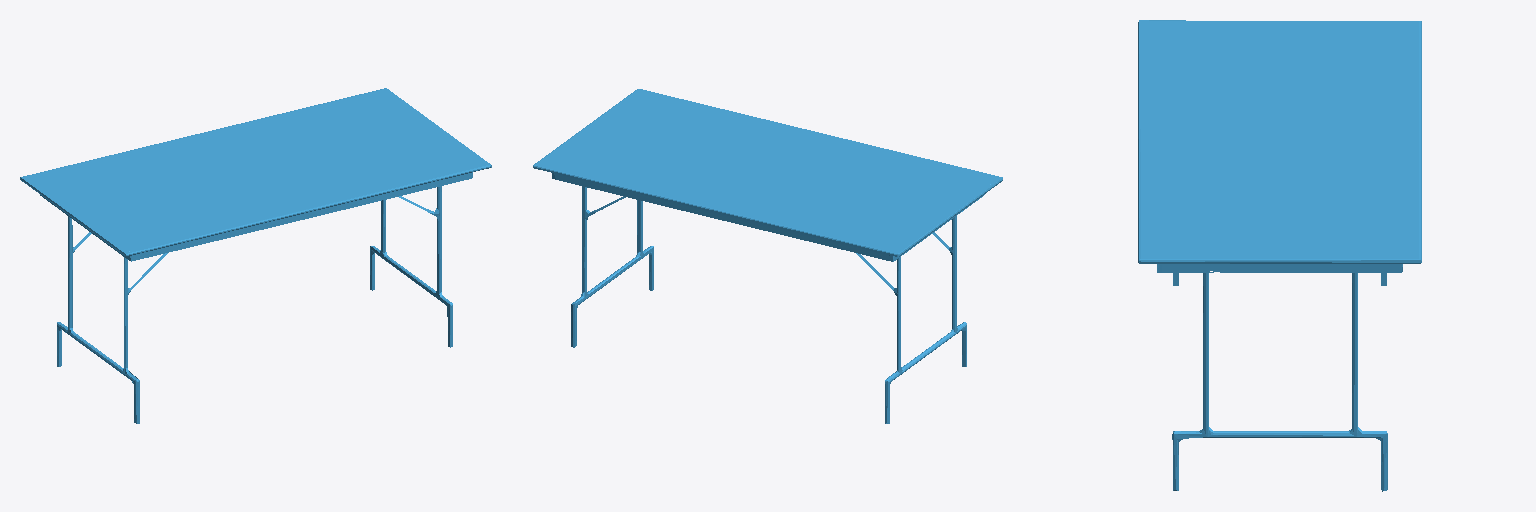
URDF robot description (table):
<?xml version="1.0"?>
<robot name="table">
    <link name="base_link"></link>

    <link name="table_link">
        <visual>
            <origin rpy="0 0 0" xyz="0 0 0" />
            <geometry>
                <mesh filename="./table.obj" scale="1 1 1" />
            </geometry>
        </visual>
        <collision>
            <origin rpy="0 0 0" xyz="0 0 0" />
            <geometry>
                <mesh filename="./table.obj" scale="1 1 1" />
            </geometry>
            <!-- <sdf resolution="1024"/> -->
        </collision>
        <inertial>
            <mass value="1.0" />
            <inertia ixx="0.4" ixy="0.0" ixz="0.0" iyy="0.4" iyz="0.0" izz="0.4" />
        </inertial>
    </link>

    <joint name="table_base" type="fixed">
        <origin rpy="0 0 0" xyz="0 0 0"/>
        <parent link="base_link"/>
        <child link="table_link"/>
    </joint>
    
</robot>

--- Facts derived from the render (not from the file) ---
Views: 3 orthographic renders of the robot side by side, from view 1: azimuth 30°, elevation 25°; view 2: azimuth 150°, elevation 25°; view 3: azimuth 270°, elevation 25°.
Model table with 2 links and 1 joints (1 fixed), rooted at base_link, posed every joint at zero.
Visible links, largest first — view 1: table_link; view 2: table_link; view 3: table_link.
Link boxes in pixels (x1,y1,x2,y2): table_link: [20, 88, 491, 423]; table_link: [533, 89, 1002, 423]; table_link: [1138, 20, 1421, 491].
Bounding box of the posed robot: 0.9195 × 0.4596 × 0.4441 m (x, y, z).
1 mesh visuals loaded from 1 distinct referenced files (1 OBJ).